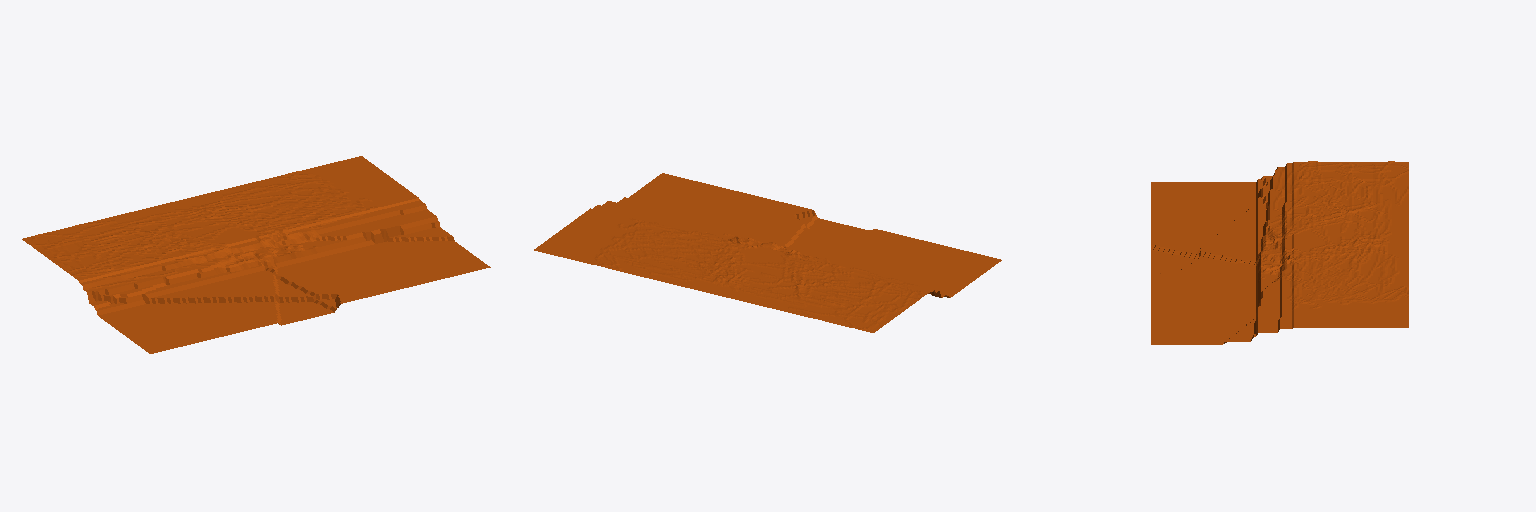
Rendered from tierra.obj.
3 views of the same model, side by side, from view 1: azimuth 30°, elevation 25°; view 2: azimuth 150°, elevation 25°; view 3: azimuth 270°, elevation 25° (orthographic).
Visible parts, largest first — view 1: Plane002; view 2: Plane002; view 3: Plane002.
Boxes of the visible parts, x1=… form: Plane002: x1=22, y1=156, x2=490, y2=353; Plane002: x1=534, y1=173, x2=1001, y2=332; Plane002: x1=1151, y1=161, x2=1408, y2=344.
Bounding box in the file's own units: 96.27 × 6.94 × 63.24.